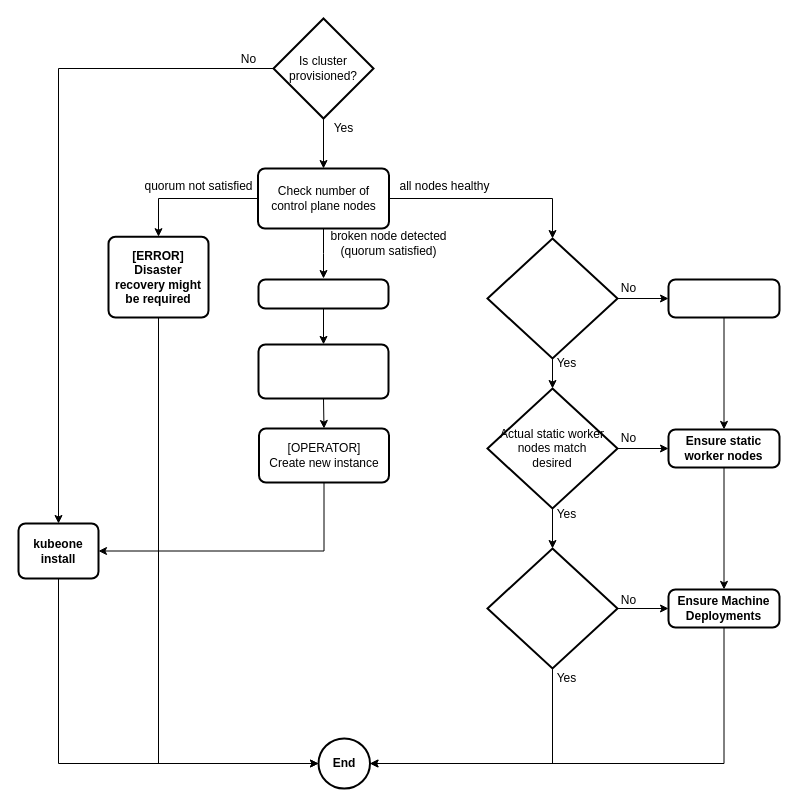
This 797x806 diagram has some shape labels left out. Each missing label, with the centre of its shape:
[OPERATOR] Manually delete broken instance: [323,371]
Actual Kubernetes version matches desired: [552,298]
Actual MachineDeployments match desired: [552,608]
Detect broken node: [323,293]
kubeone upgrade: [723,298]
